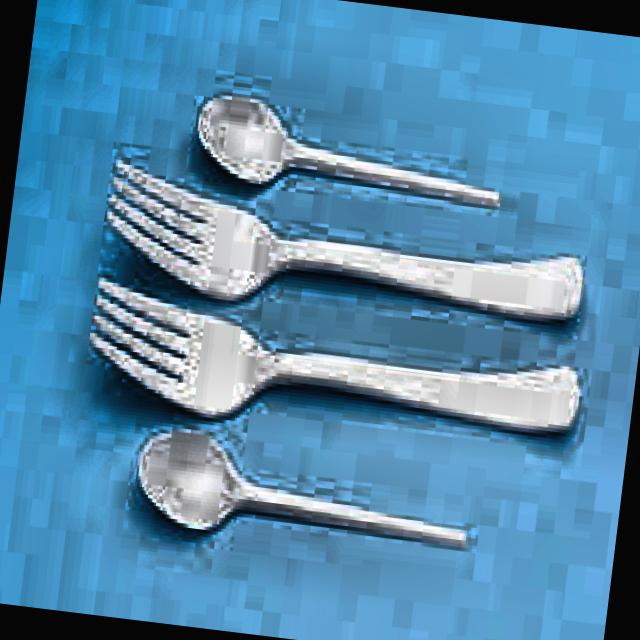plastic utensil: (110, 161, 583, 321), (197, 97, 500, 207)
